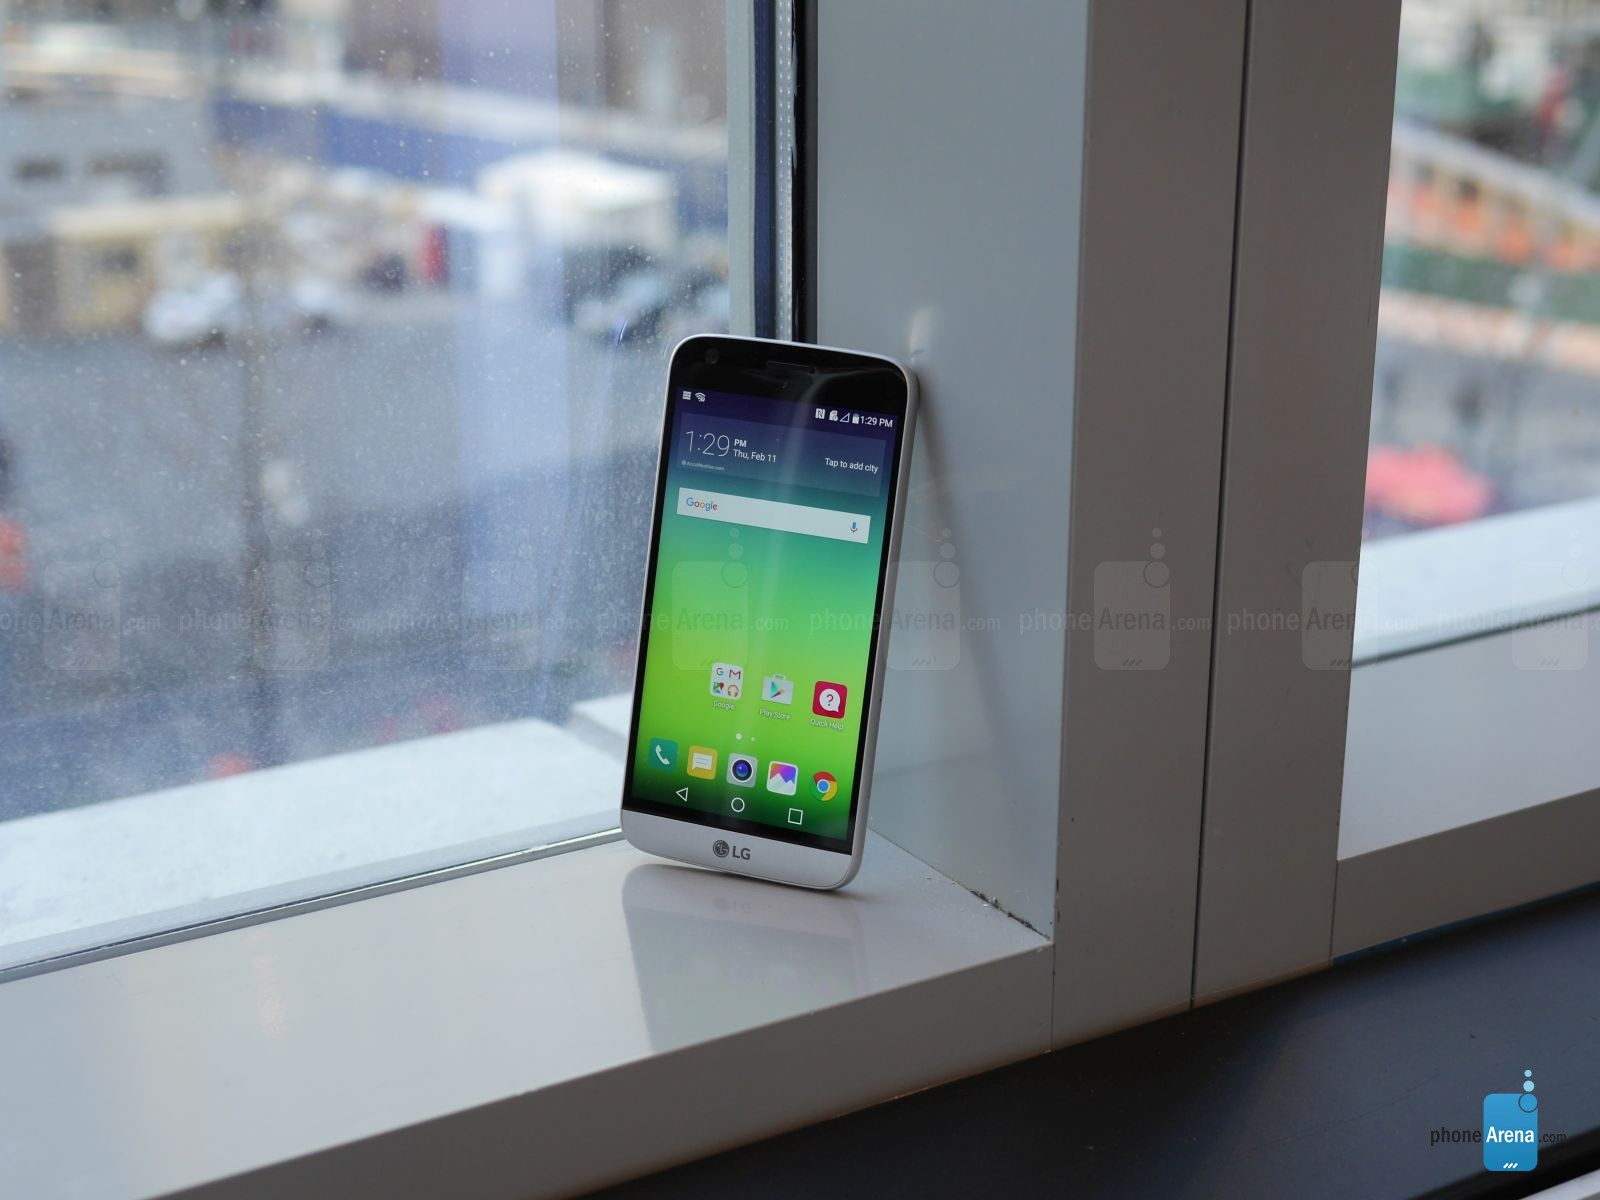smartphone: (619, 332, 923, 895)
